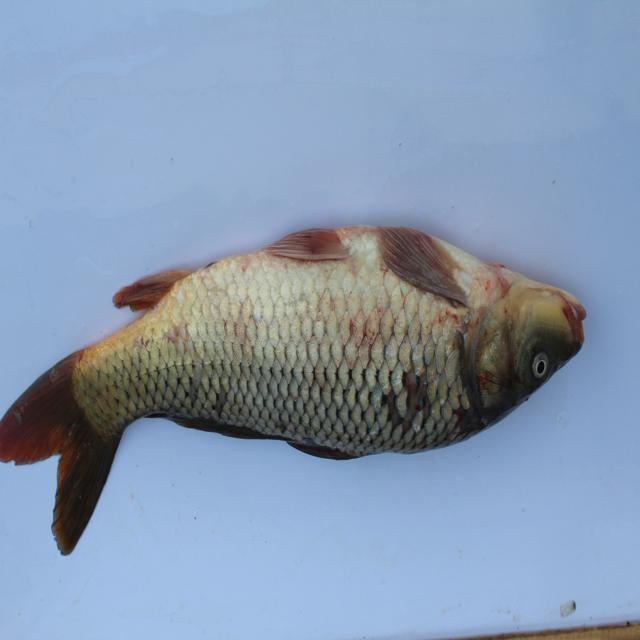CommonCarp: (5, 215, 598, 559)
